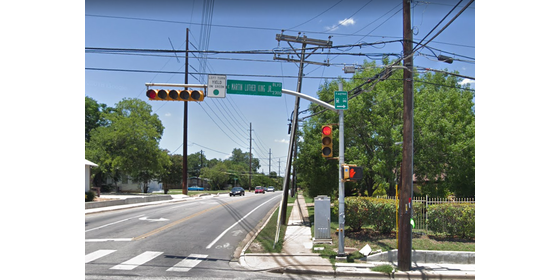green bus sign: (331, 87, 351, 109)
left turn yield on green sign: (206, 70, 226, 100)
street name sign: (228, 80, 283, 97)
